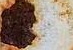Corrosion: (1, 1, 39, 50)
